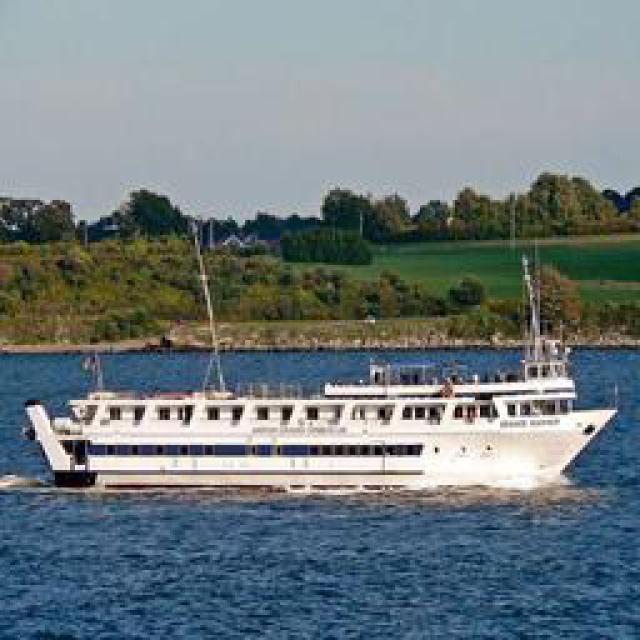Ship: (24, 352, 627, 502)
